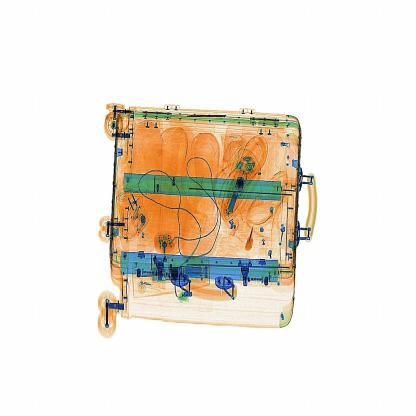wrench: (239, 219, 264, 265)
